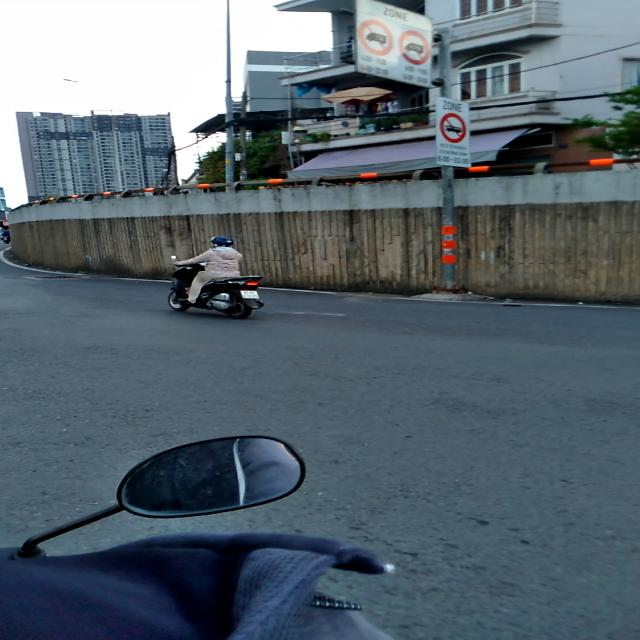P.106b: (357, 19, 393, 56), (398, 30, 431, 65)
P.107a: (440, 112, 466, 144)
